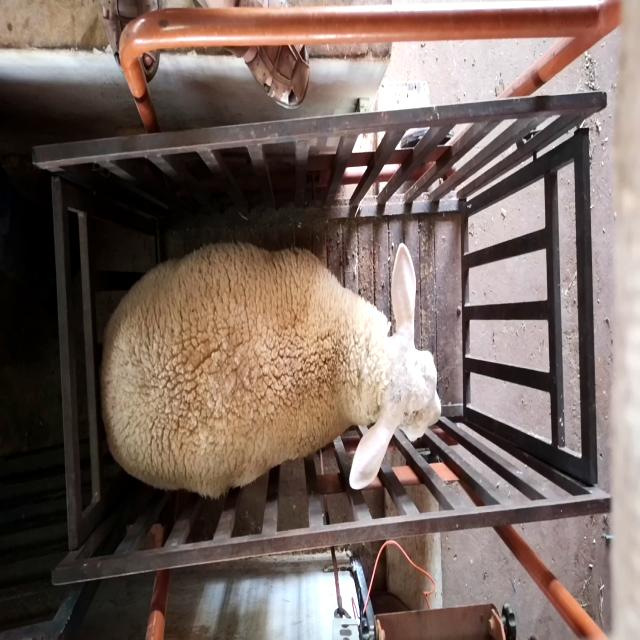sheep: (100, 241, 442, 500)
